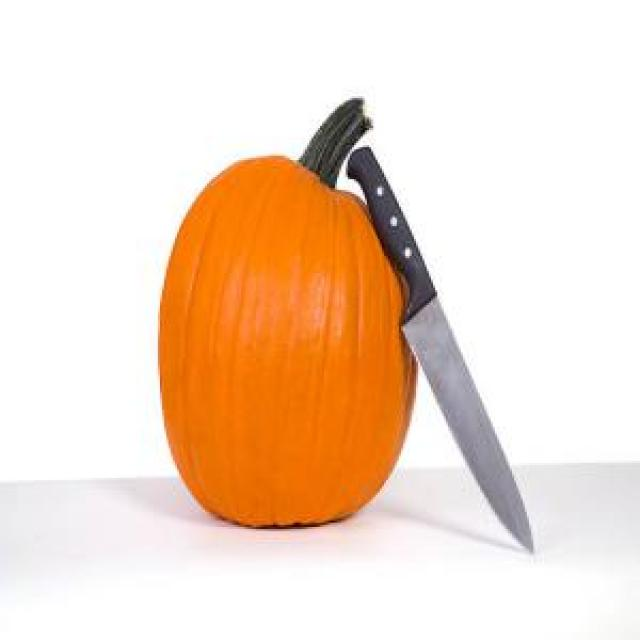knife: (346, 145, 538, 553)
